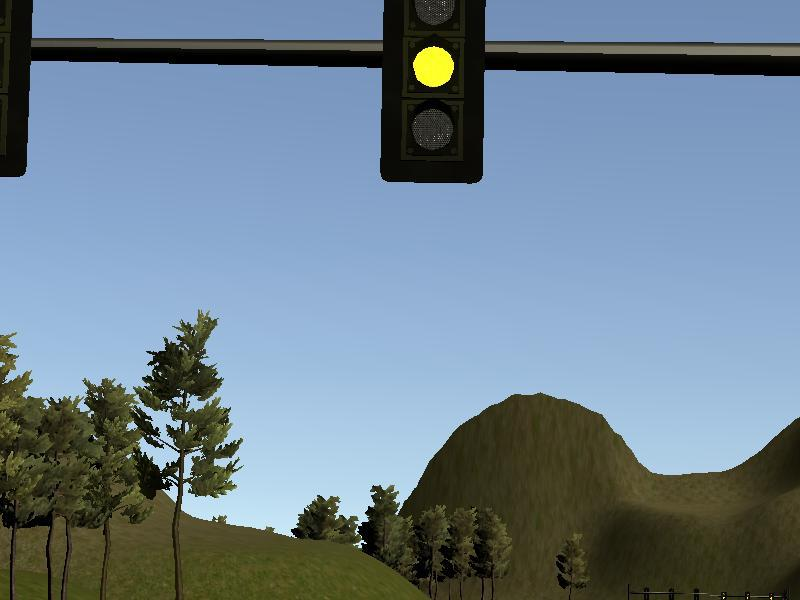Yellow: (381, 1, 485, 176)
